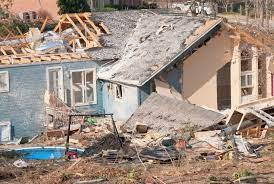major: (0, 8, 267, 147)
